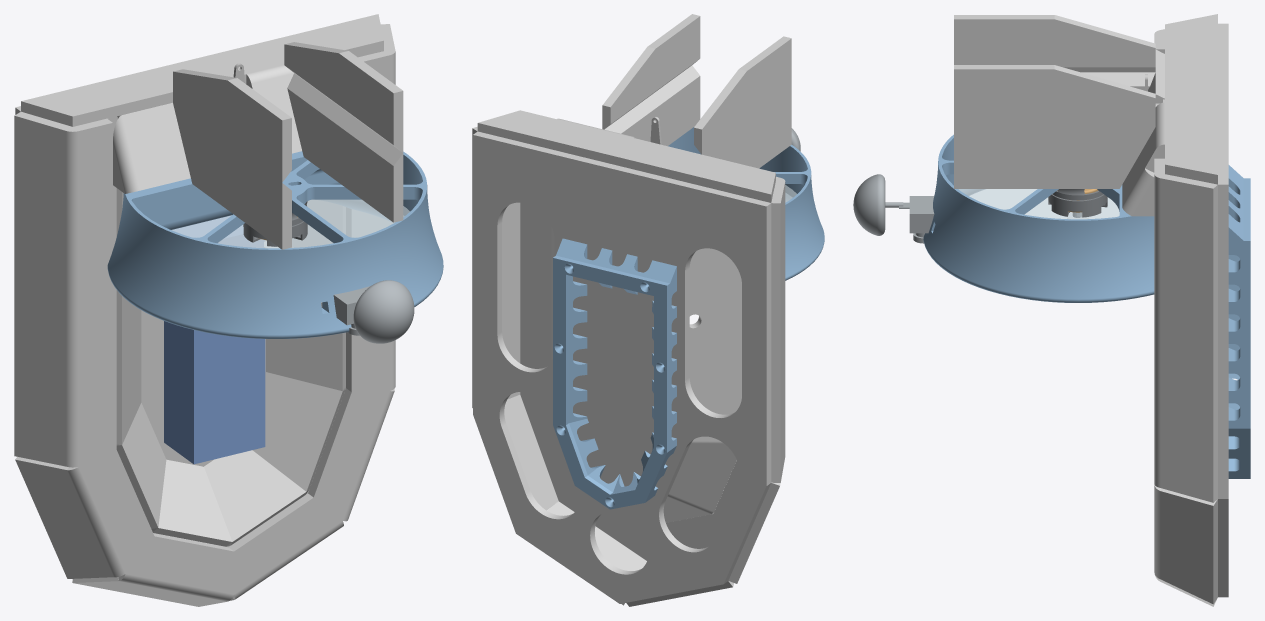
File: hovercraft_mk9.gltf
3 views of the same model, side by side, from view 1: azimuth 30°, elevation 25°; view 2: azimuth 150°, elevation 25°; view 3: azimuth 270°, elevation 25° (orthographic). The views are drawn at different scales.
Parts seen in each view (by area): view 1: Outer Pontoon, Duct, Inner Pontoon, Stern, Battery - 3S 2200 mAh, Port Rudder Fin, Starboard Rudder Fin, Starboard Rudder Flap, Port Rudder Flap, Part 1, Prop, Floor (+1 smaller); view 2: Floor, Outer Pontoon, Inner Pontoon, Inner Skirt Gasket, Stern, Channel Block, Starboard Rudder Flap, Duct, Port Rudder Flap, Port Rudder Fin, Starboard Rudder Fin; view 3: Outer Pontoon, Duct, Stern, Port Rudder Fin, Port Rudder Flap, Starboard Rudder Flap, Floor, Channel Block, Part 1, Inner Skirt Gasket, Prop, Casing (+1 smaller).
Boxes of the visible parts, box(x1,y1,x2,y2) form: Outer Pontoon: box(14, 24, 395, 606); Duct: box(107, 151, 443, 338); Inner Pontoon: box(116, 188, 345, 546); Stern: box(21, 14, 383, 193); Battery - 3S 2200 mAh: box(164, 216, 265, 464); Port Rudder Fin: box(287, 73, 403, 222); Starboard Rudder Fin: box(173, 103, 291, 249); Starboard Rudder Flap: box(173, 69, 291, 182); Port Rudder Flap: box(284, 42, 403, 152); Part 1: box(333, 280, 414, 343); Prop: box(171, 199, 409, 302); Floor: box(15, 106, 345, 547); Floor: box(473, 131, 771, 603); Outer Pontoon: box(472, 126, 785, 606); Inner Pontoon: box(551, 227, 741, 522); Inner Skirt Gasket: box(553, 255, 669, 509); Stern: box(477, 110, 775, 202); Channel Block: box(556, 238, 676, 501); Starboard Rudder Flap: box(694, 36, 791, 154); Duct: box(668, 127, 824, 280); Port Rudder Flap: box(602, 14, 700, 129); Port Rudder Fin: box(604, 65, 700, 145); Starboard Rudder Fin: box(703, 90, 791, 168); Outer Pontoon: box(1154, 29, 1217, 606); Duct: box(923, 134, 1154, 302); Stern: box(1122, 14, 1217, 216); Port Rudder Fin: box(954, 127, 1155, 188); Port Rudder Flap: box(954, 65, 1155, 126); Starboard Rudder Flap: box(954, 15, 1155, 72); Floor: box(1218, 23, 1228, 597); Channel Block: box(1228, 165, 1243, 478); Part 1: box(853, 174, 934, 243); Inner Skirt Gasket: box(1243, 178, 1250, 478); Prop: box(958, 189, 1119, 219); Casing: box(1048, 189, 1107, 217).
Bounding box in the file's own units: 0.1891 × 0.2903 × 0.1876.
